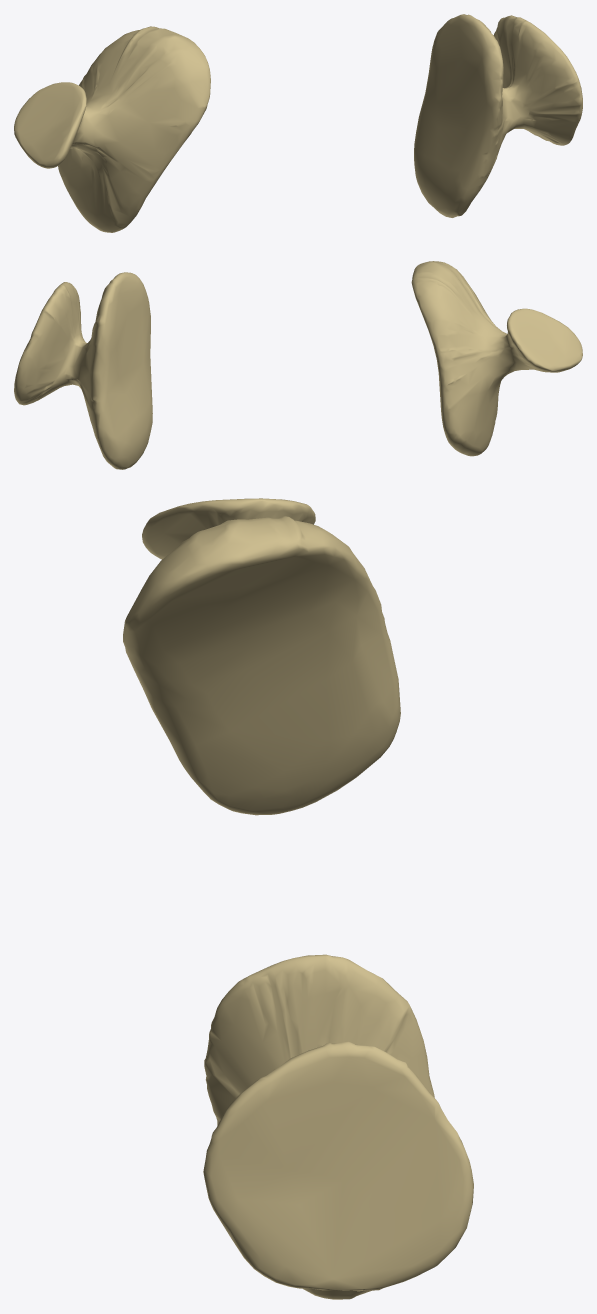
The picture shows the model from 3 angles, top to bottom: view 1: azimuth 30°, elevation 25°; view 2: azimuth 150°, elevation 25°; view 3: azimuth 270°, elevation 25°; orthographic projection. The views are drawn at different scales.
Visible parts, largest first — view 1: 右侧眼球悬韧带; view 2: 右侧眼球悬韧带; view 3: 右侧眼球悬韧带.
Boxes of the visible parts, bbox=[...] form: 右侧眼球悬韧带: bbox=[14, 14, 582, 232]; 右侧眼球悬韧带: bbox=[14, 261, 582, 469]; 右侧眼球悬韧带: bbox=[123, 498, 473, 1299].
Size of the model in its own units: 0.057 by 0.0271 by 0.0172.
